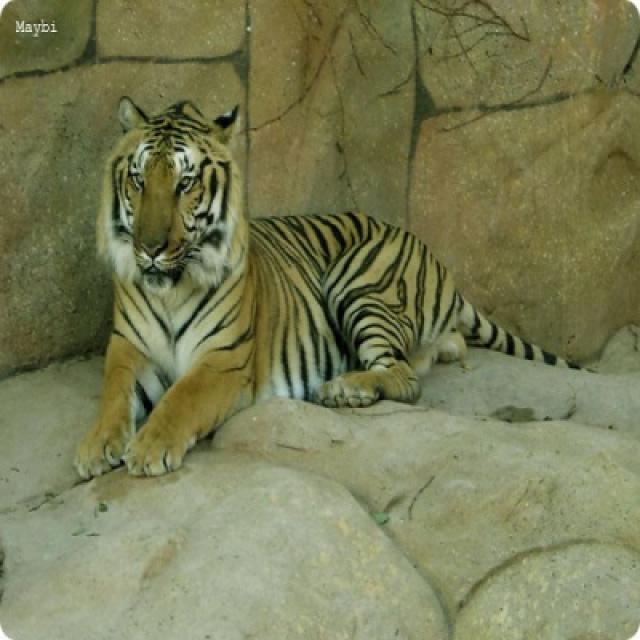Tiger: (77, 91, 581, 486)
